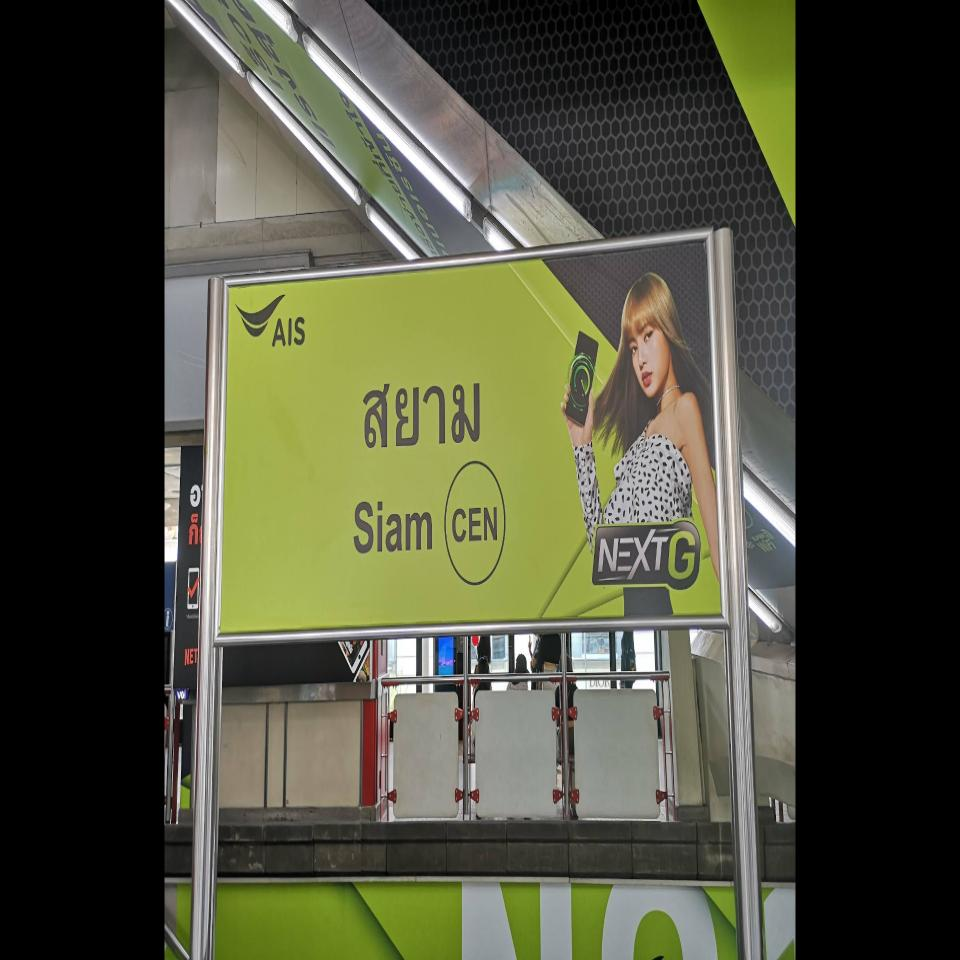Siam: (212, 229, 729, 643)
